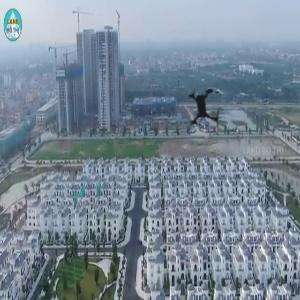drone: (168, 70, 247, 149)
